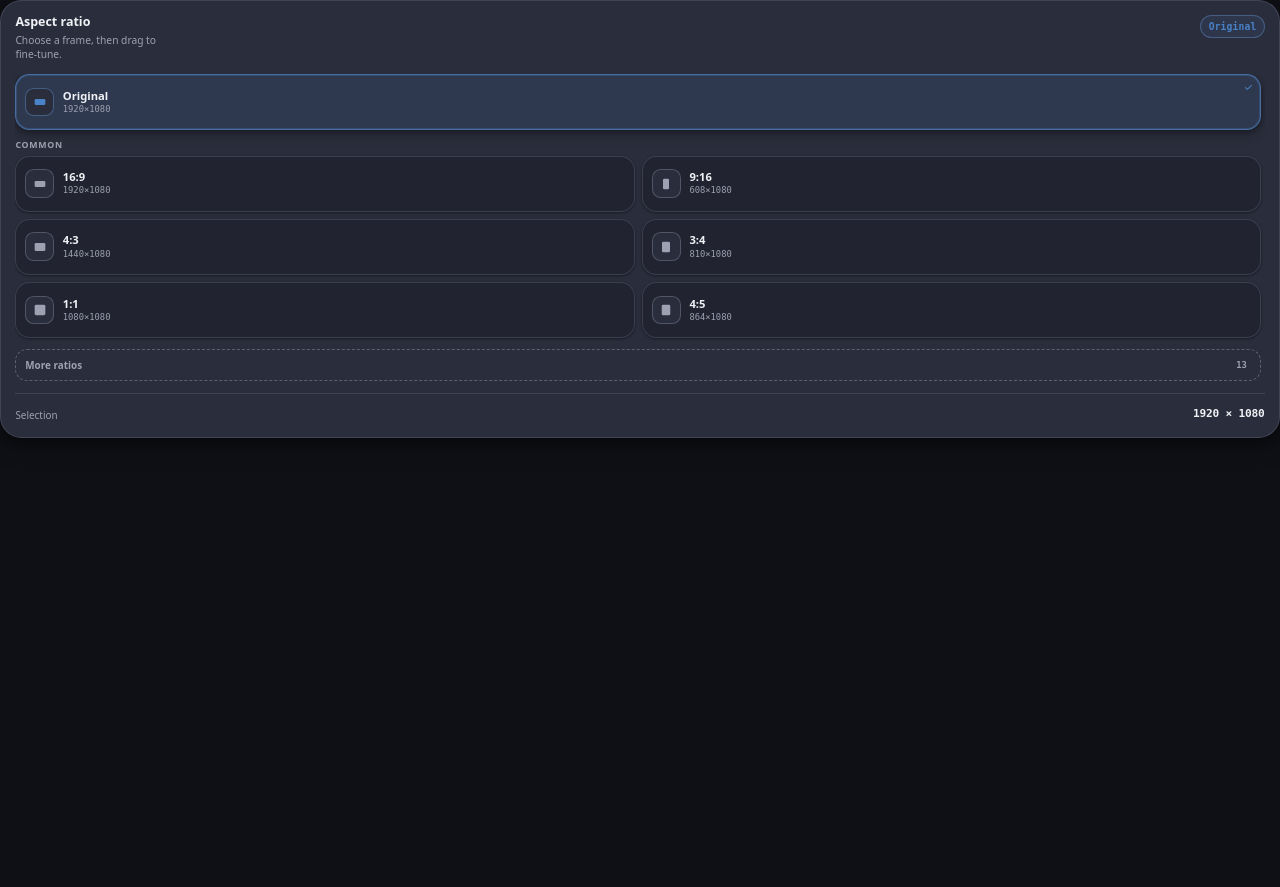
Test: CropRatioPanel › shows common ratios first and progressively reveals the full catalog
The width and height of the screenshot is (1280, 887).
Check: the number of buttons named "Aspect ratio " is 6, box [15,156,635,212]; [642,156,1261,212]; [15,219,635,275]; [642,219,1261,275]; [15,282,635,338]; [642,282,1261,338]
Click the button with aria-label "More ratios, 13". click: (54, 365)
box: [15,349,1261,381]
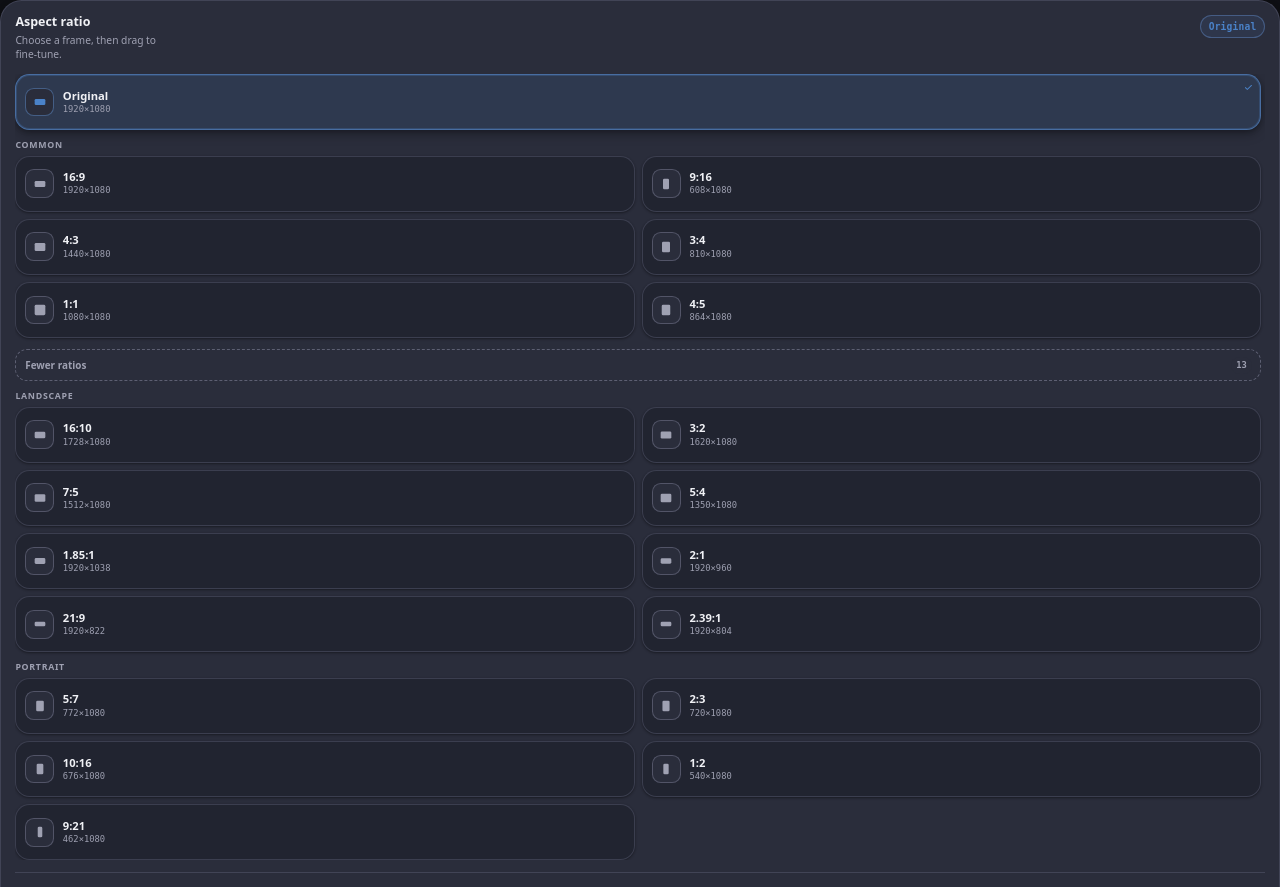
Check: the number of buttons named "Aspect ratio " is 19
Check: the element "Landscape" is shown, box [15,392,1261,652]
Check: the element "Portrait" is shown, box [15,664,1261,860]
Click the button with aria-label "Fewer ratios, 13". click: (56, 365)
box: [15,349,1261,381]
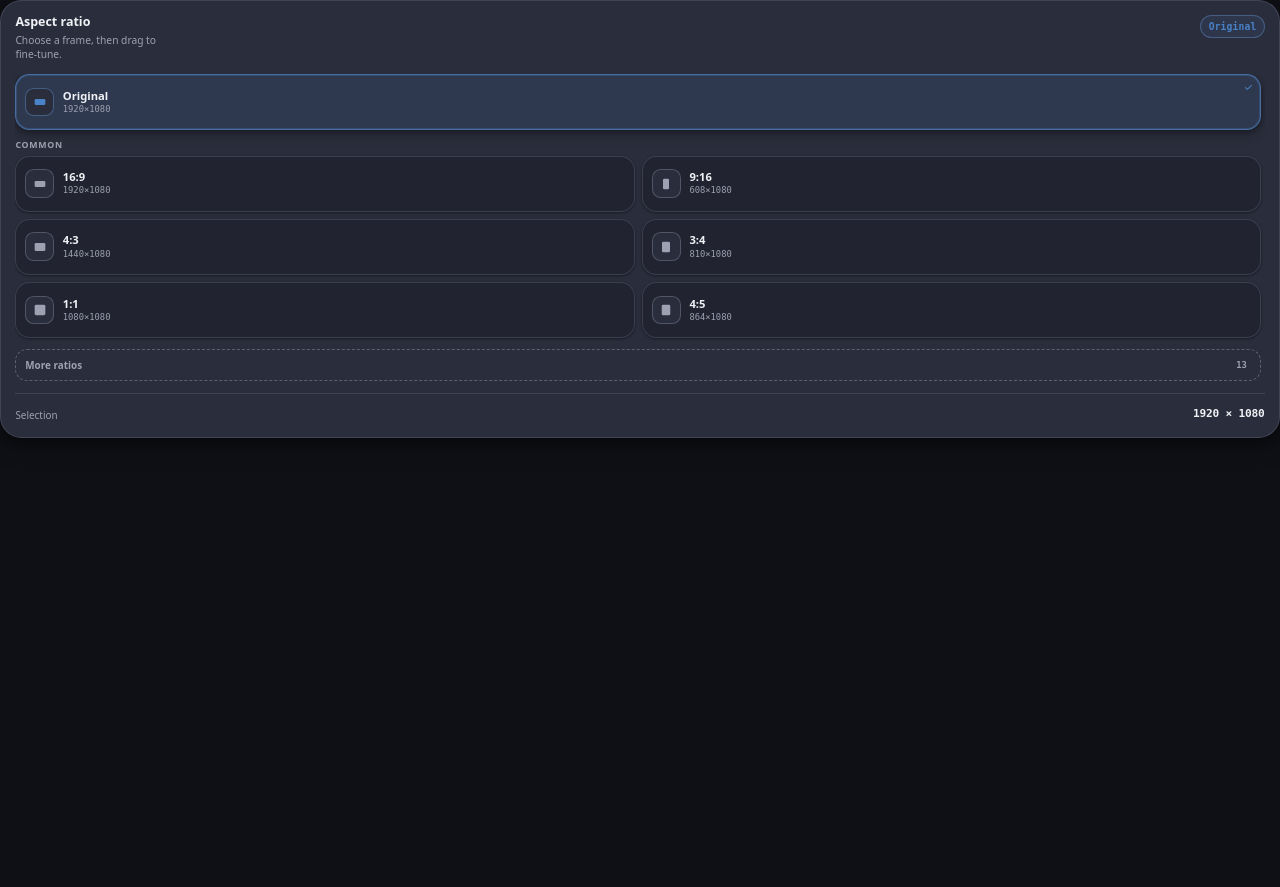
Check: the number of buttons named "Aspect ratio " is 6, box [15,156,635,212]; [642,156,1261,212]; [15,219,635,275]; [642,219,1261,275]; [15,282,635,338]; [642,282,1261,338]
